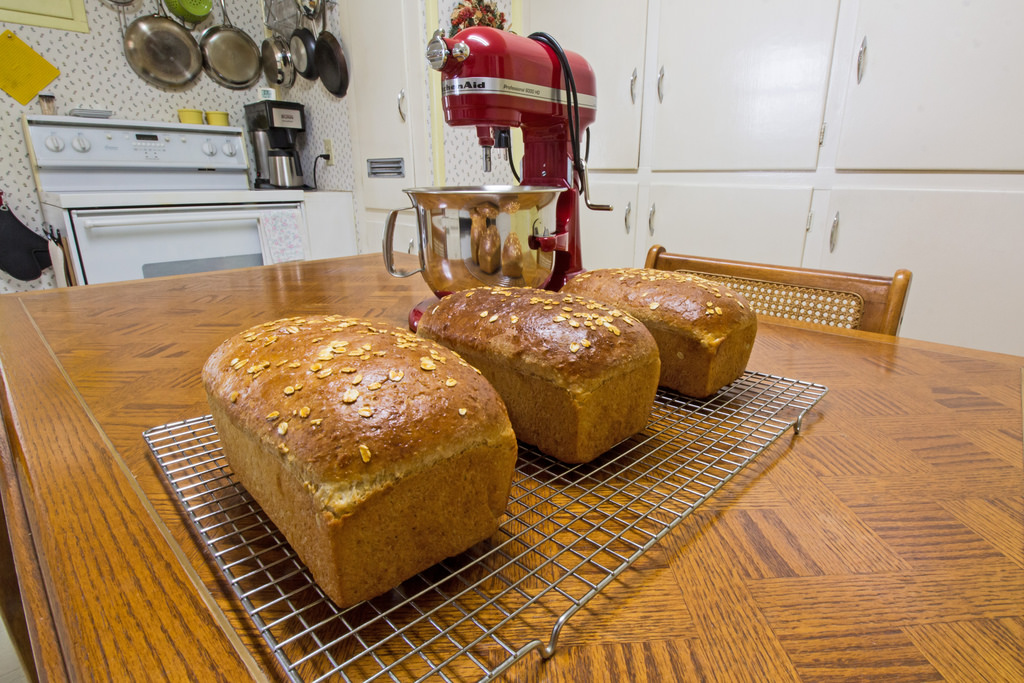slice of bread: (204, 320, 501, 566), (455, 274, 752, 405)
